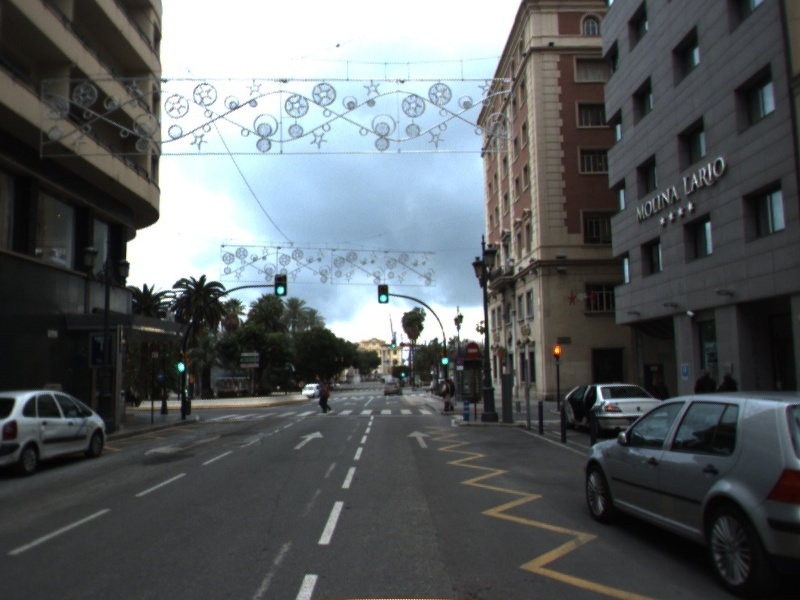STRAIGHT: (292, 429, 325, 451), (404, 428, 434, 450)
STRAIGHT_LEFT: (142, 433, 223, 457)
